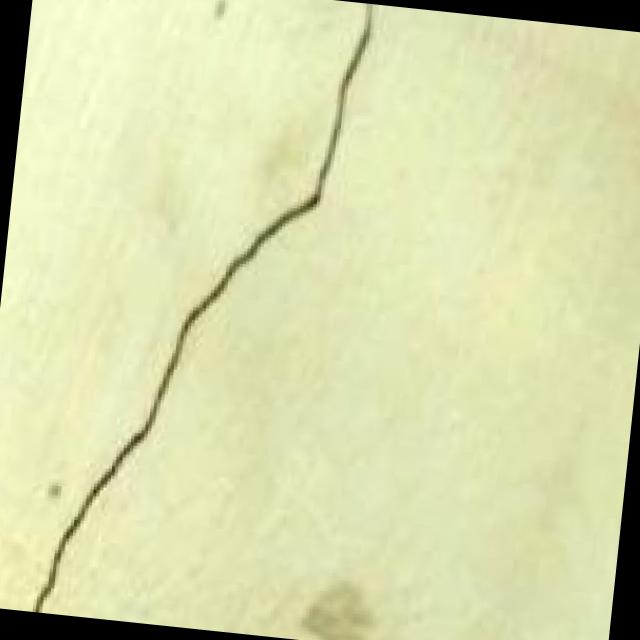crack: (13, 0, 382, 638)
